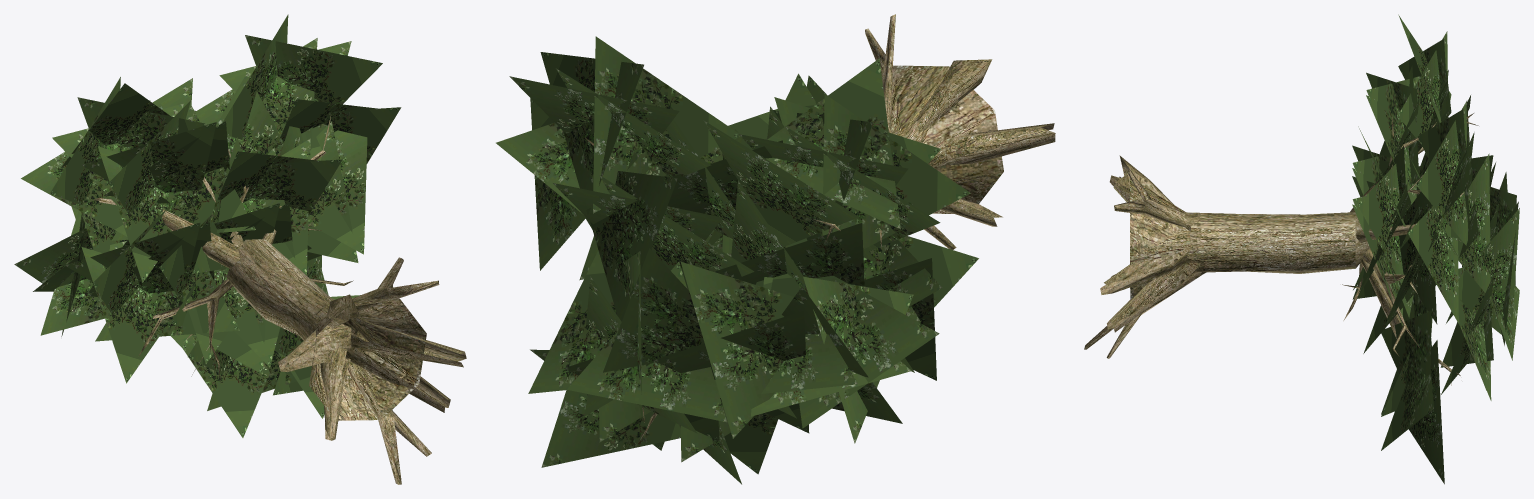
The model's file is fig_a.glb.
3 renders of one model, left to right at view 1: azimuth 30°, elevation 25°; view 2: azimuth 150°, elevation 25°; view 3: azimuth 270°, elevation 25°, orthographic. The views are drawn at different scales.
Size of the model in its own units: 18.63 by 18.5 by 20.56.
2 materials, 2 textured.
